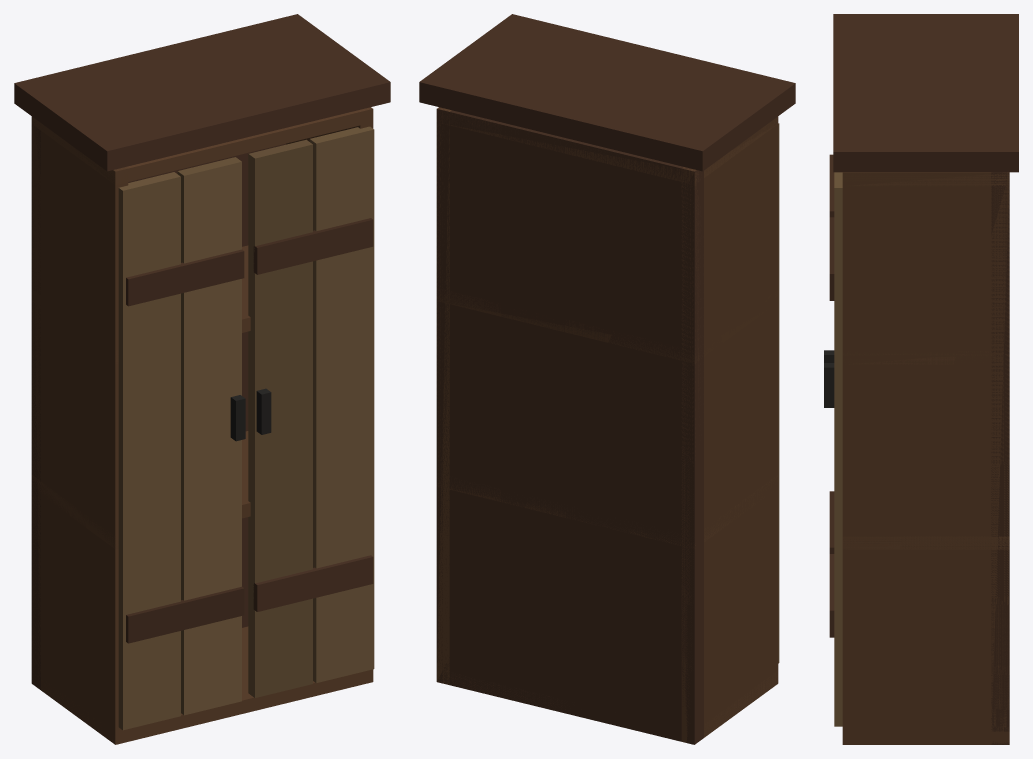
The model's file is cupboard.glb.
3 views of the same model, side by side, from view 1: azimuth 30°, elevation 25°; view 2: azimuth 150°, elevation 25°; view 3: azimuth 270°, elevation 25° (orthographic).
Parts seen in each view (by area): view 1: cupboard, cupboard-door-right, cupboard-door-left; view 2: cupboard, cupboard-door-left; view 3: cupboard, cupboard-door-right, cupboard-door-left.
Part boxes in pixels (x1,y1,x2,y2): cupboard: (14, 14, 390, 744); cupboard-door-right: (248, 126, 374, 697); cupboard-door-left: (118, 157, 245, 730); cupboard: (419, 14, 795, 744); cupboard-door-left: (778, 123, 779, 663); cupboard: (833, 14, 1018, 744); cupboard-door-right: (824, 172, 842, 726); cupboard-door-left: (824, 154, 834, 553).
Size of the model in its own units: 0.88 by 1.78 by 0.525.
